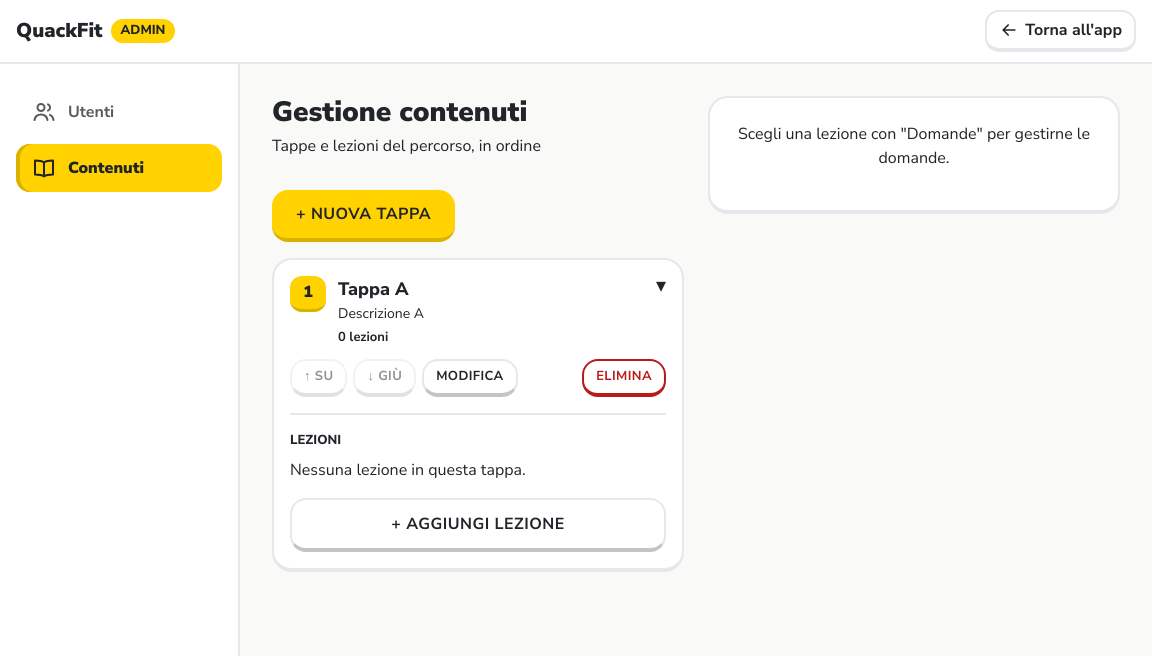
Scenario: creazione e modifica › gli errori dei campi del backend vanno sotto i campi e il form resta aperto
What coordinates should you click on to do the following:
click the button with aria-label "Modifica la tappa «Tappa A»"
I would click on:
 (470, 378)
Its box is [422, 359, 518, 397].
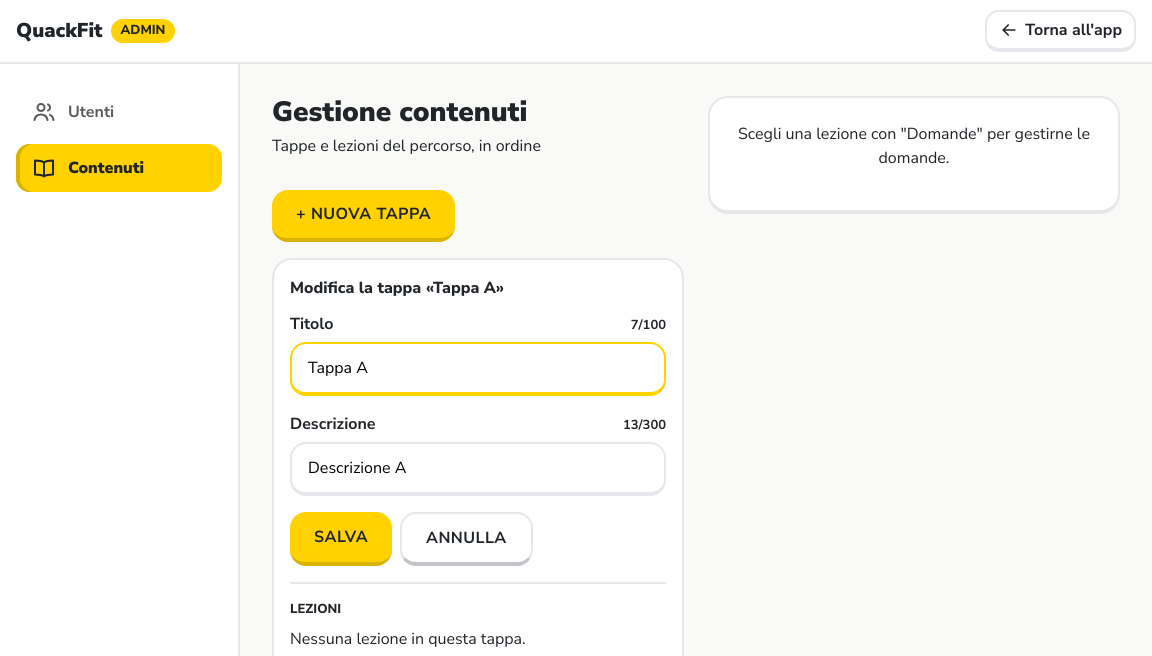
Check: the field labelled "Titolo" holds "Tappa A", box [290, 342, 666, 396]
What coordinates should you click on to do the following:
click the button "Salva"
I would click on:
 (341, 539)
Its box is [290, 512, 392, 566].
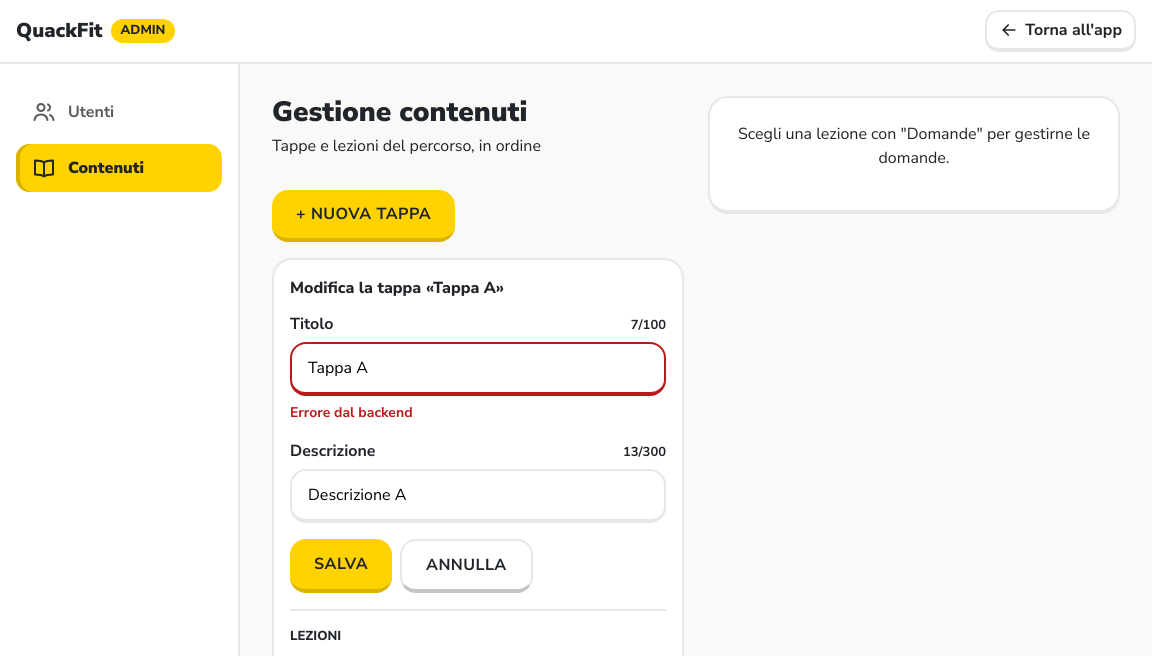
Check: the text "Errore dal backend" is shown, box [290, 403, 412, 422]
